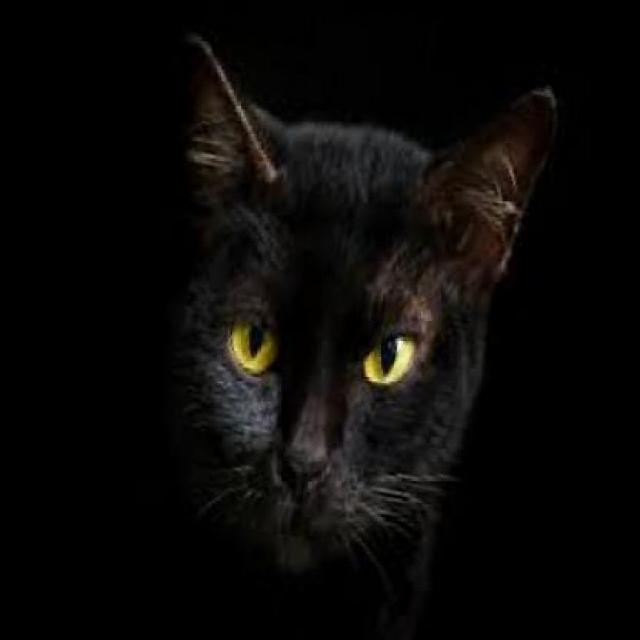animals: (89, 6, 577, 639)
